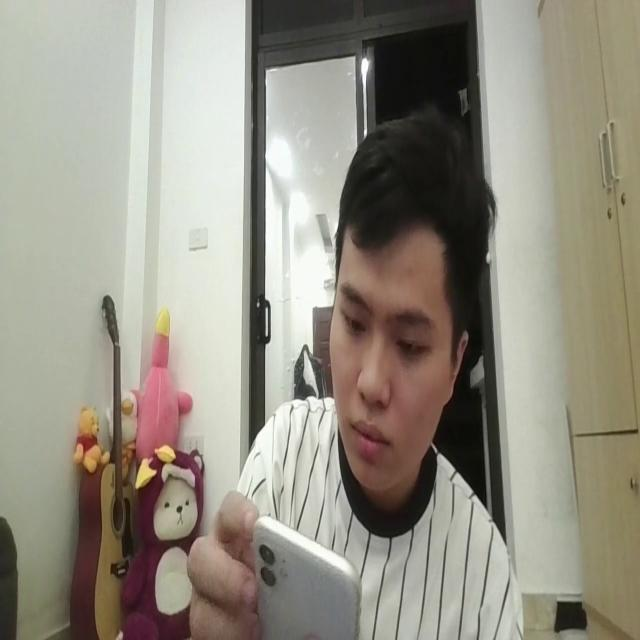phone: (251, 504, 363, 640)
student: (177, 97, 523, 640)
